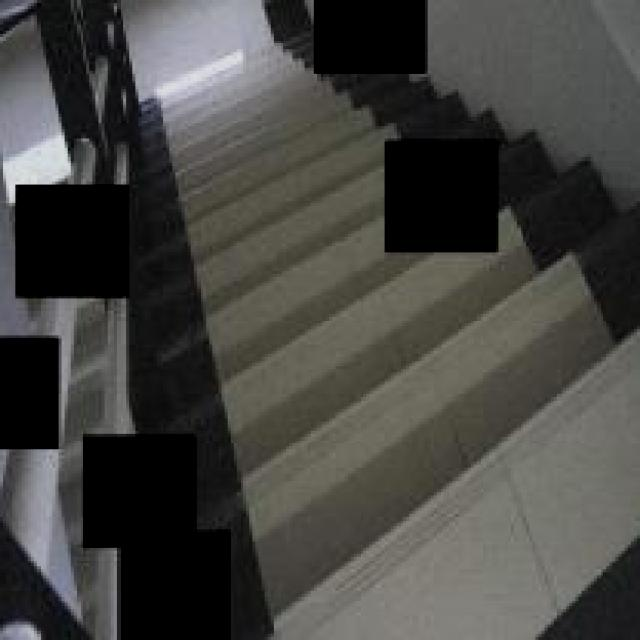downstair: (152, 140, 376, 404)
